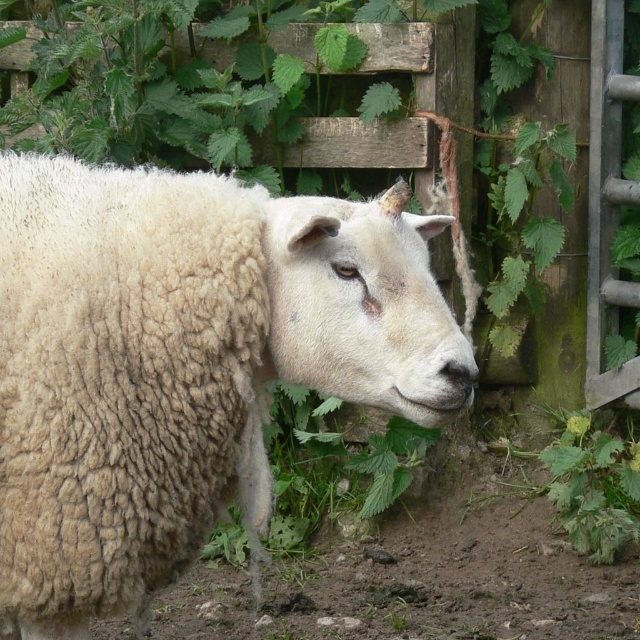Sheep: (0, 148, 483, 639)
